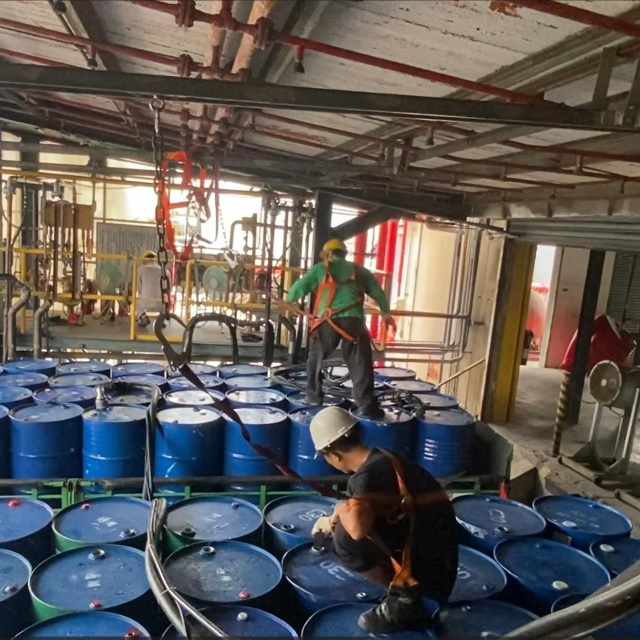Arnes_seguridad: (346, 446, 454, 619), (306, 260, 366, 354)
